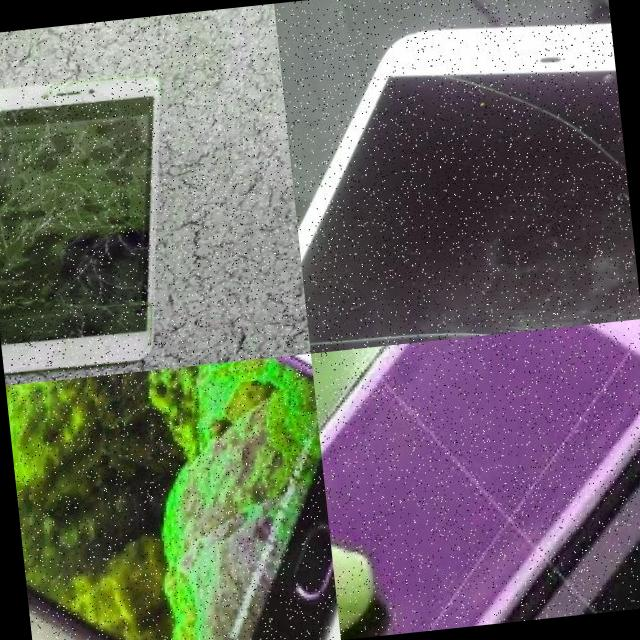scratch: (306, 280, 640, 353)
screen crack: (394, 33, 632, 257), (0, 77, 189, 344)
